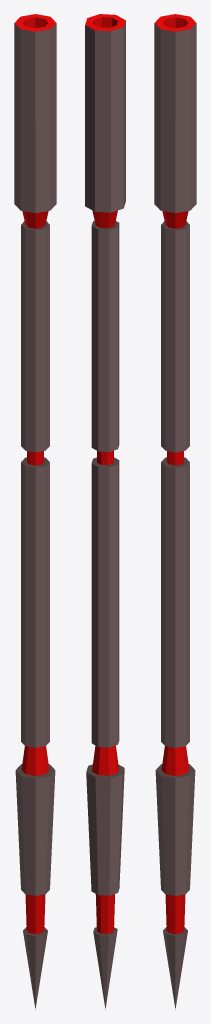
Rendered from Arrow.fbx.
The picture shows the model from 3 angles, left to right: view 1: azimuth 90°, elevation 25°; view 2: azimuth 150°, elevation 25°; view 3: azimuth 270°, elevation 25°; orthographic projection.
Parts seen in each view (by area): view 1: Cylinder; view 2: Cylinder; view 3: Cylinder.
Boxes of the visible parts, box(x1,y1,x2,y2) form: Cylinder: box(14, 14, 56, 1009); Cylinder: box(85, 14, 125, 1009); Cylinder: box(154, 14, 196, 1009).
Size of the model in its own units: 1.93 by 49.89 by 1.93.
Materials: 1 (1 with a texture image).
